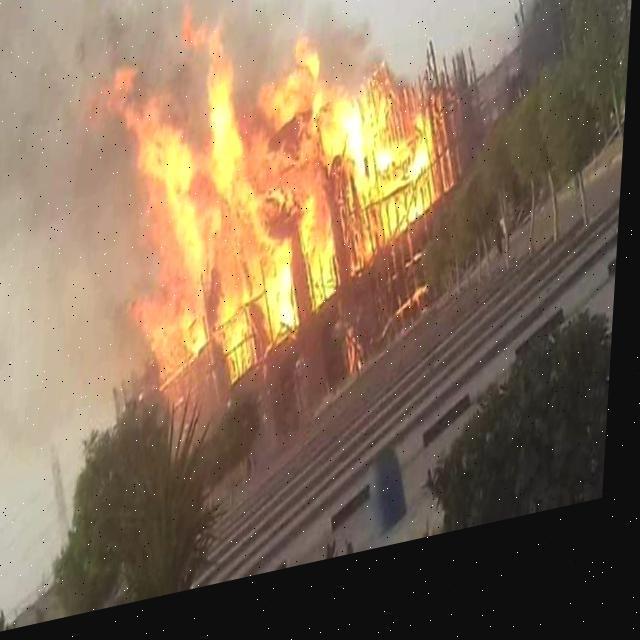Fire: (108, 0, 464, 417)
